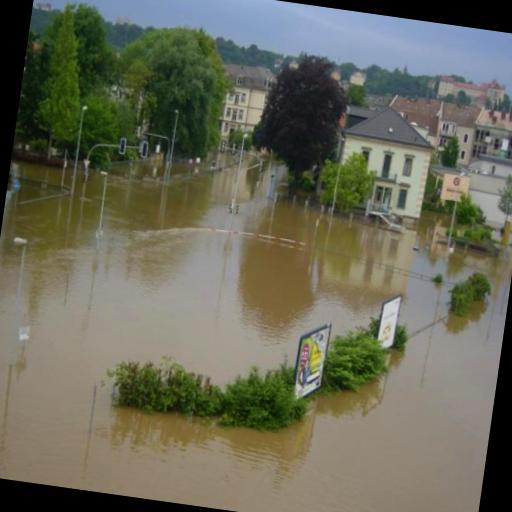flood: (0, 152, 512, 512)
house: (325, 95, 440, 226), (211, 61, 276, 150), (468, 103, 512, 169)
